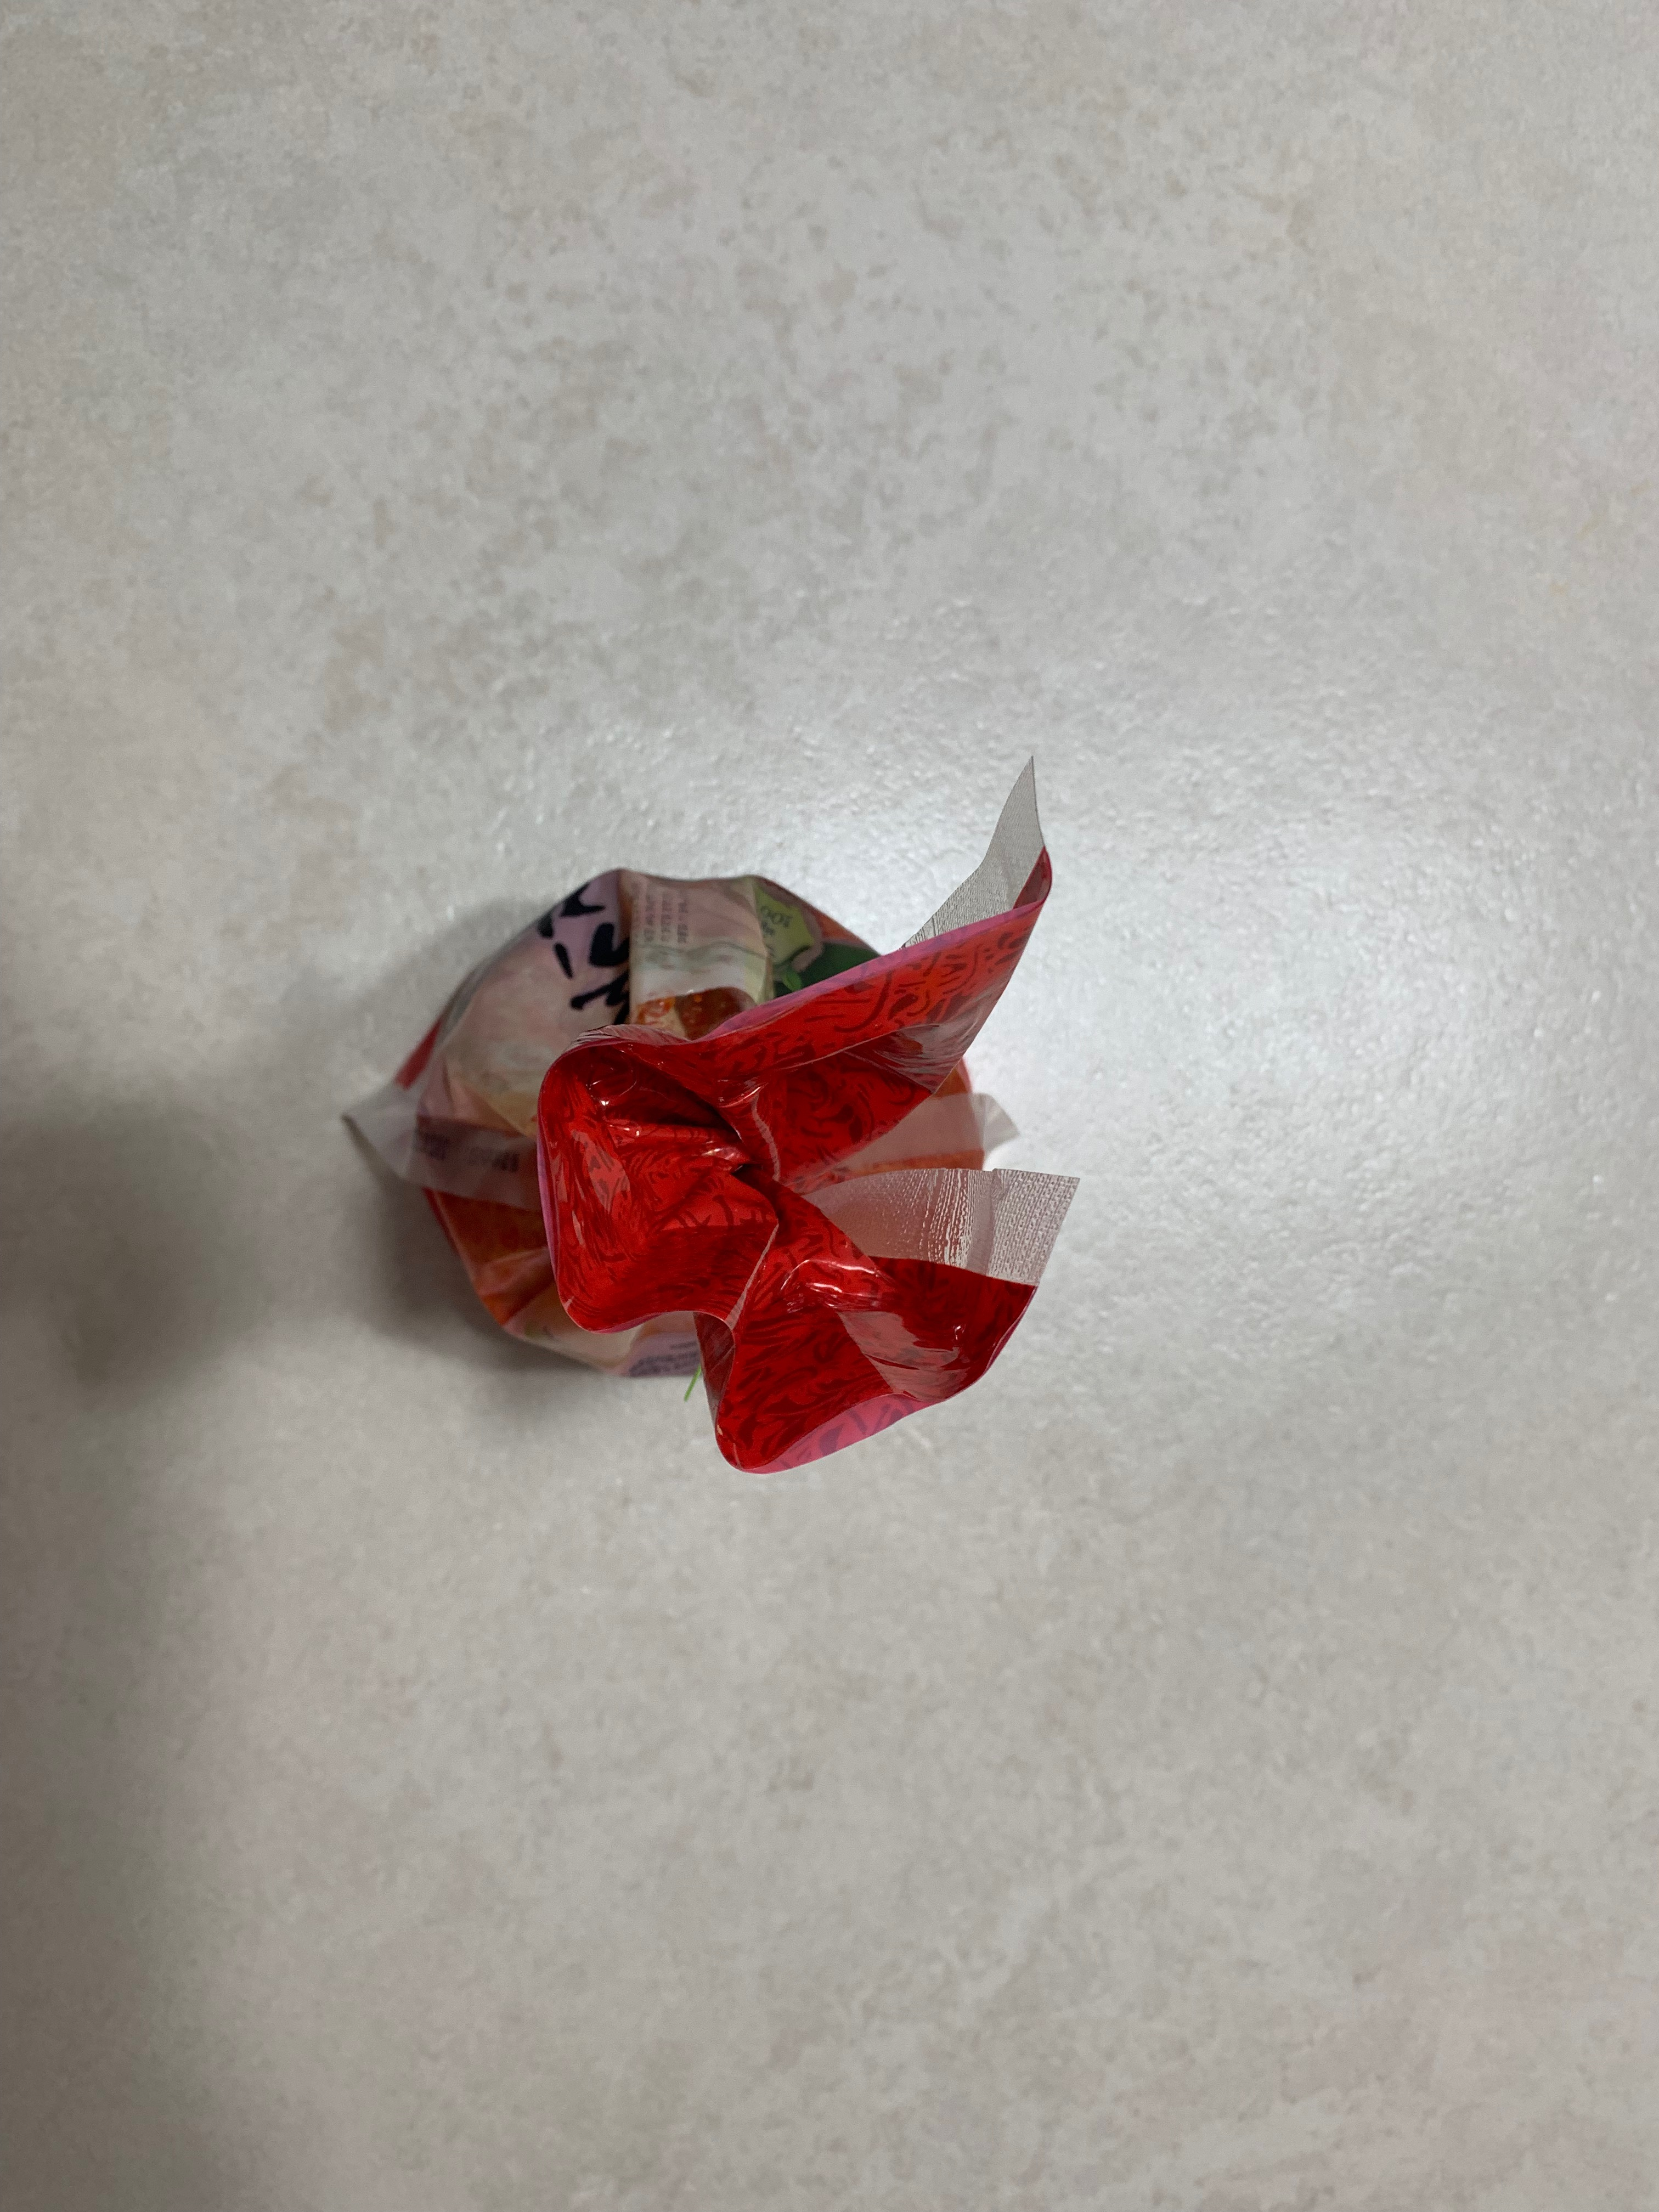kimchi: (350, 867, 1063, 1470)
